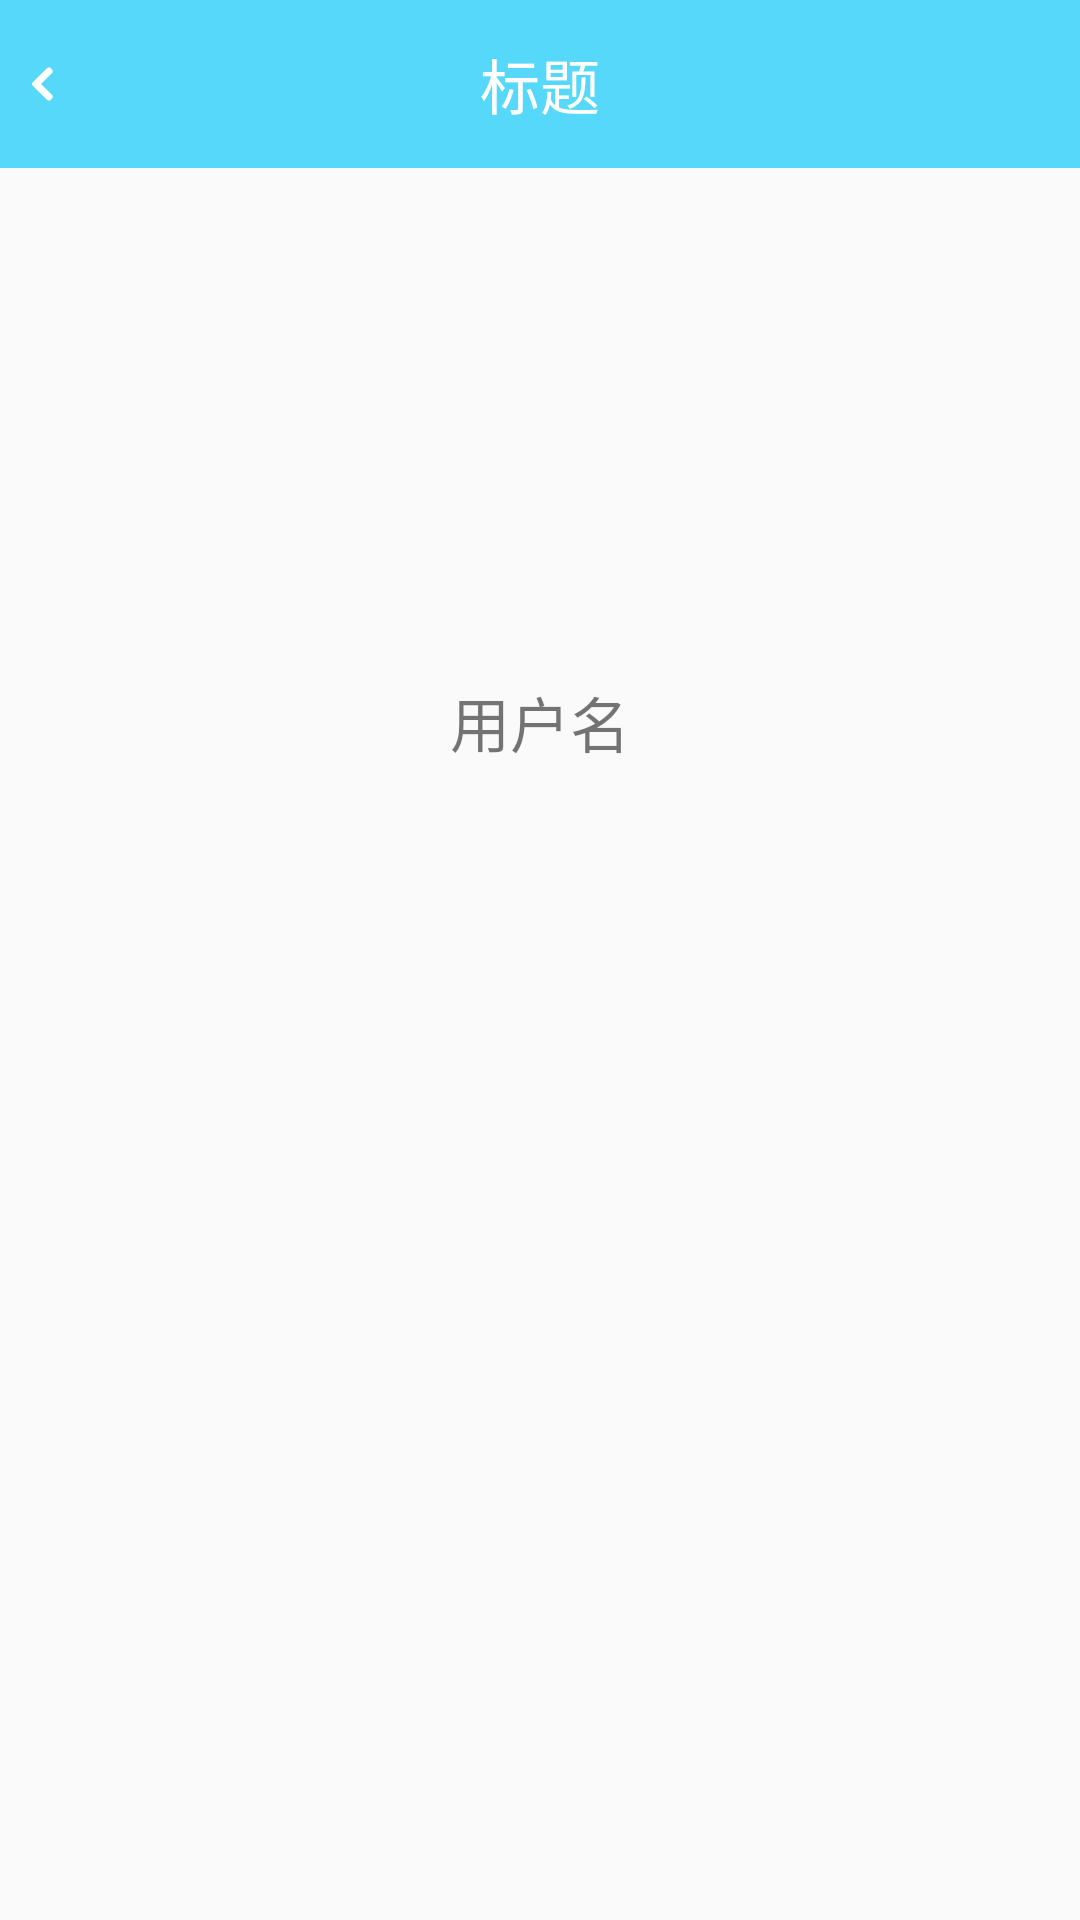

Icon click points for this 1080 × 1920 phone screenshot, format (x,y):
back: (42,84)
